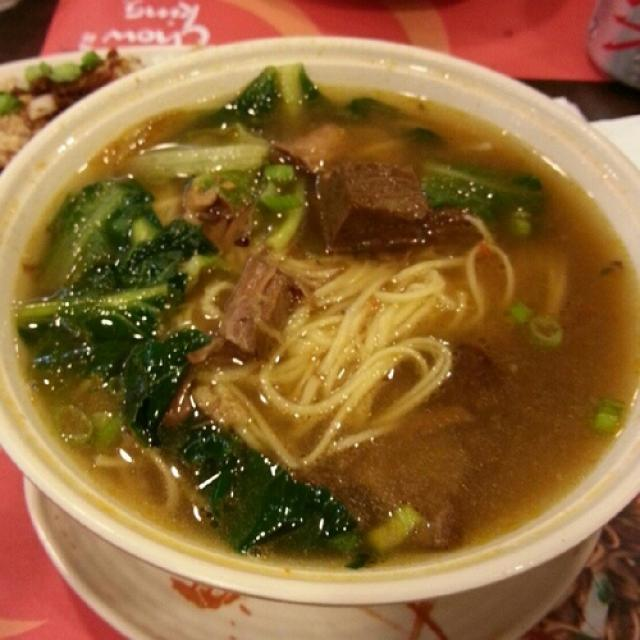面条主食: (18, 39, 619, 588)
